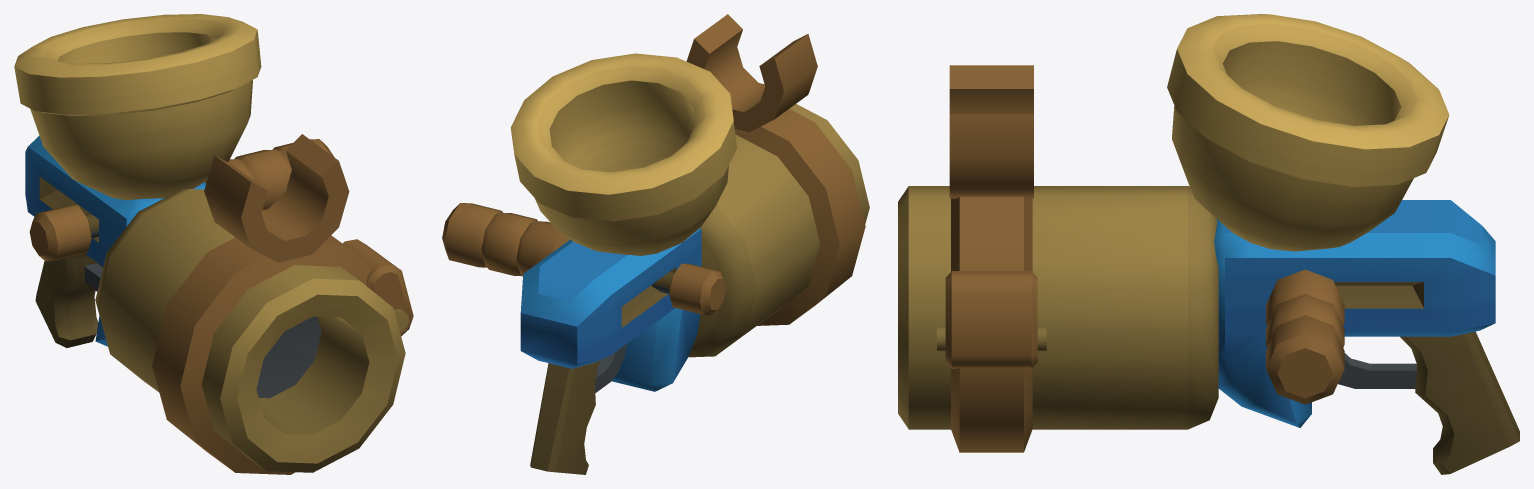
File: kk_holiday_horloge_canon.glb
3 renders of one model, left to right at view 1: azimuth 30°, elevation 25°; view 2: azimuth 150°, elevation 25°; view 3: azimuth 270°, elevation 25°, orthographic. The views are drawn at different scales.
Visible parts, largest first — view 1: snowball_cannon; view 2: snowball_cannon; view 3: snowball_cannon.
Part boxes in pixels (left/top/right/bottom): snowball_cannon: left=14, top=14, right=413, bottom=474; snowball_cannon: left=442, top=14, right=869, bottom=474; snowball_cannon: left=898, top=14, right=1519, bottom=474.
Size of the model in its own units: 0.6016 by 0.714 by 0.9509.
1 material, 1 textured.
